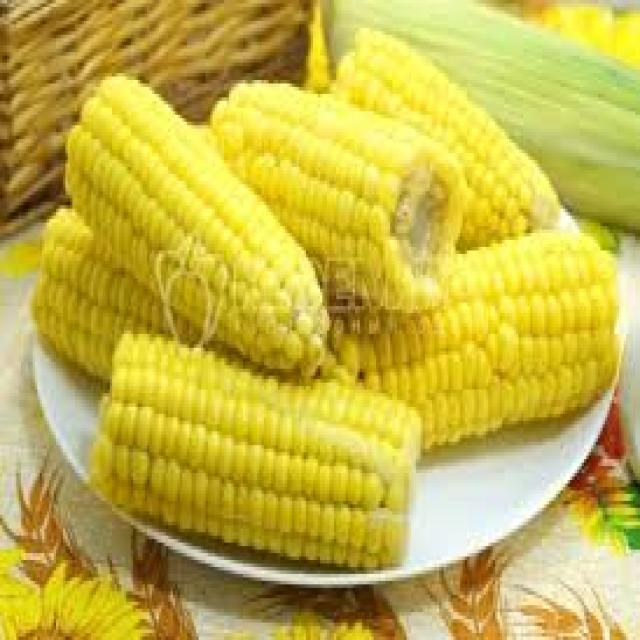corn: (80, 335, 441, 575), (59, 61, 328, 370), (199, 52, 467, 314), (318, 222, 630, 434), (328, 4, 588, 258), (14, 204, 223, 378)
